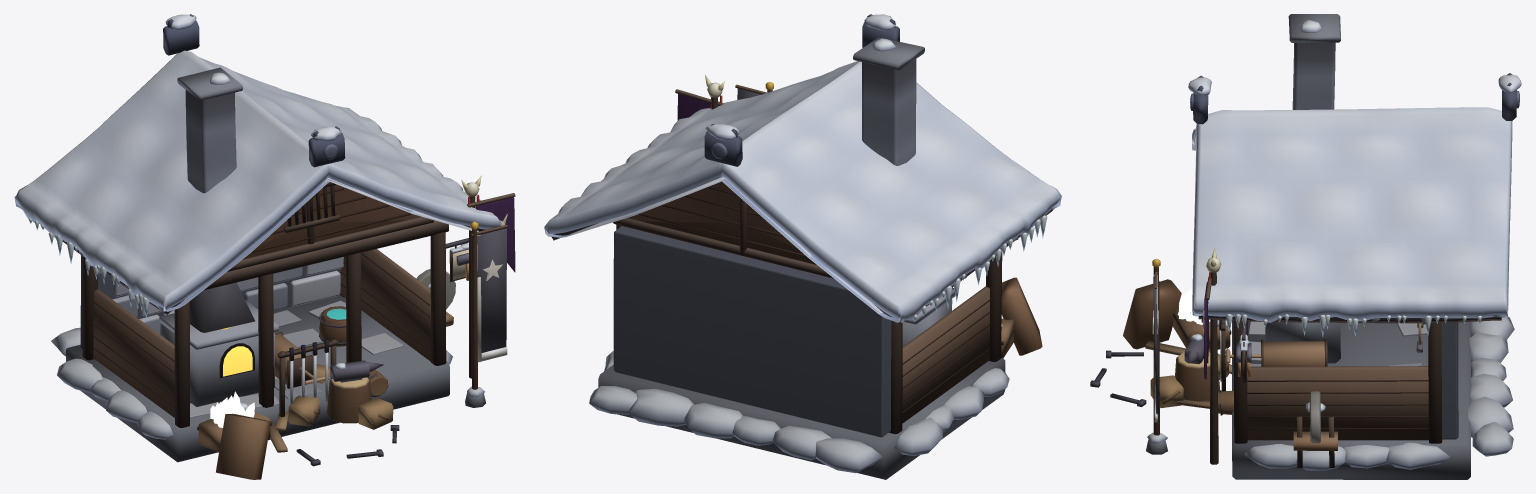
File: zv-onsen-smith.glb
3 renders of one model, left to right at view 1: azimuth 30°, elevation 25°; view 2: azimuth 150°, elevation 25°; view 3: azimuth 270°, elevation 25°, orthographic. The views are drawn at different scales.
Parts seen in each view (by area): view 1: zv-onsen-smith, siege, saved; view 2: zv-onsen-smith, siege; view 3: zv-onsen-smith, siege, saved.
Boxes of the visible parts, x1,y1,x2,y2 form: zv-onsen-smith: (14, 14, 501, 462); siege: (216, 175, 515, 479); saved: (213, 221, 507, 423); zv-onsen-smith: (544, 14, 1061, 479); siege: (675, 75, 1042, 355); zv-onsen-smith: (1172, 14, 1521, 479); siege: (1090, 247, 1233, 464); saved: (1146, 259, 1225, 454).
Bounding box in the file's own units: 4.95 × 4.47 × 4.88.
